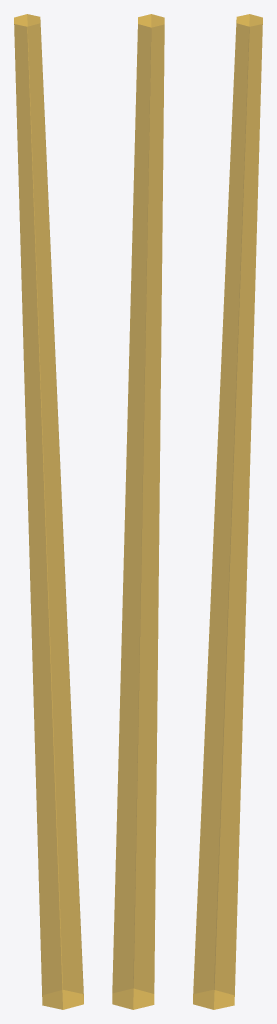
File: SM_Veh_Ship_S_Mast_Middle_02_Collision.fbx
3 views of the same model, side by side, from view 1: azimuth 90°, elevation 25°; view 2: azimuth 210°, elevation 25°; view 3: azimuth 270°, elevation 25° (orthographic).
Parts seen in each view (by area): view 1: SM_Veh_Ship_S_Mast_Middle_02_Collision; view 2: SM_Veh_Ship_S_Mast_Middle_02_Collision; view 3: SM_Veh_Ship_S_Mast_Middle_02_Collision.
Part boxes in pixels (bbox=[...]): SM_Veh_Ship_S_Mast_Middle_02_Collision: bbox=[14, 14, 83, 1009]; SM_Veh_Ship_S_Mast_Middle_02_Collision: bbox=[112, 14, 164, 1009]; SM_Veh_Ship_S_Mast_Middle_02_Collision: bbox=[193, 14, 262, 1009].
Bounding box in the file's own units: 112 × 2534 × 163.
